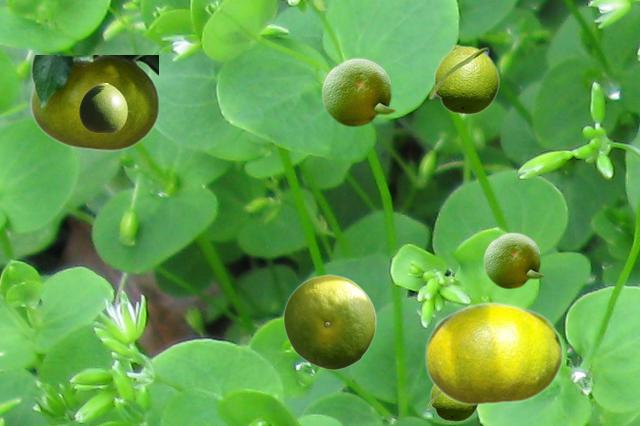dalandan: (424, 301, 562, 405), (30, 55, 157, 150), (283, 274, 375, 369), (320, 56, 396, 126), (428, 44, 499, 114), (482, 231, 544, 288), (79, 83, 126, 132), (426, 385, 478, 421)
